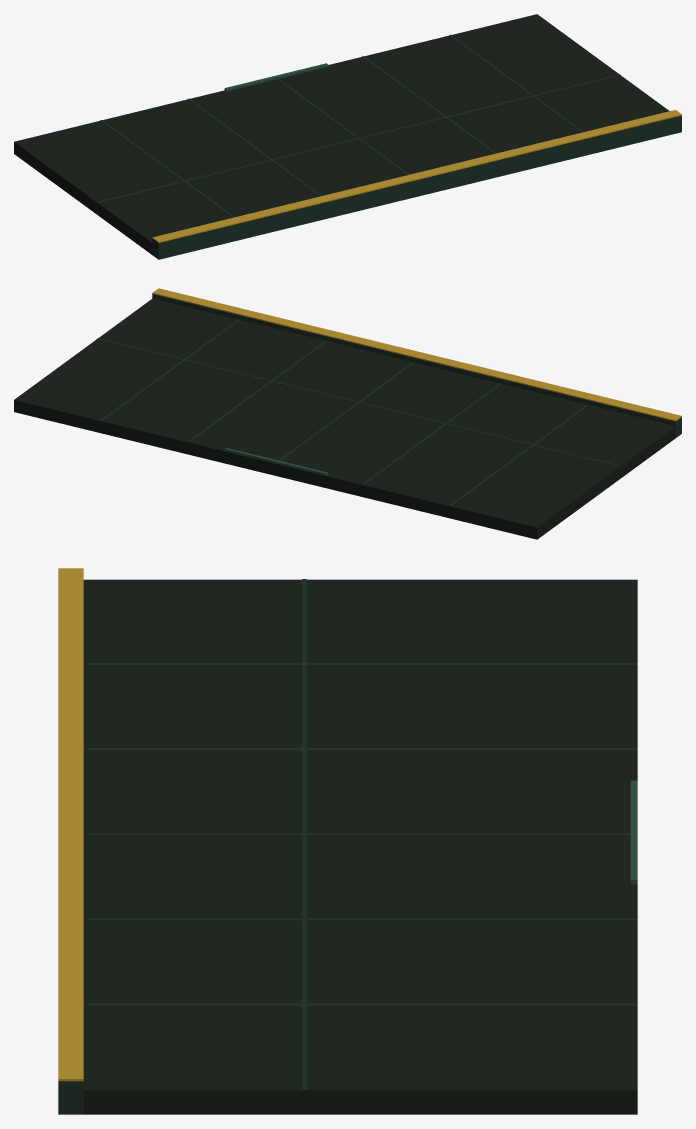
Rendered from sidewalk-base.glb.
3 renders of one model, top to bottom at view 1: azimuth 30°, elevation 25°; view 2: azimuth 150°, elevation 25°; view 3: azimuth 270°, elevation 25°, orthographic. The views are drawn at different scales.
Parts seen in each view (by area): view 1: slab, curb, curb_top, joint_long, threshold, joint_2, joint_5, joint_4, joint_1, joint_3; view 2: slab, curb_top, curb, joint_long, threshold, joint_1, joint_2, joint_4, joint_5, joint_3; view 3: slab, curb_top, joint_long, joint_4, joint_5, joint_2, joint_1, joint_3, curb, threshold.
Boxes of the visible parts, <box> form: slab: <box>14,14,669,254</box>; curb: <box>152,115,681,259</box>; curb_top: <box>152,110,681,242</box>; joint_long: <box>97,74,620,202</box>; threshold: <box>224,63,328,91</box>; joint_2: <box>187,98,321,196</box>; joint_5: <box>449,35,583,132</box>; joint_4: <box>362,56,496,153</box>; joint_1: <box>100,120,234,217</box>; joint_3: <box>276,78,409,175</box>; slab: <box>14,298,675,539</box>; curb_top: <box>152,288,681,421</box>; curb: <box>152,294,681,437</box>; joint_long: <box>97,338,620,466</box>; threshold: <box>224,448,328,475</box>; joint_1: <box>449,405,588,506</box>; joint_2: <box>362,383,501,485</box>; joint_4: <box>187,341,326,442</box>; joint_5: <box>100,320,239,421</box>; joint_3: <box>276,362,413,463</box>; slab: <box>83,579,637,1114</box>; curb_top: <box>58,568,83,1081</box>; joint_long: <box>302,579,306,1090</box>; joint_4: <box>87,918,637,921</box>; joint_5: <box>87,1003,637,1006</box>; joint_2: <box>87,748,637,750</box>; joint_1: <box>87,663,637,665</box>; joint_3: <box>87,833,630,835</box>; curb: <box>58,1081,83,1114</box>; threshold: <box>630,780,637,884</box>.
Bounding box in the file's own units: 7.2 × 0.235 × 3.45.
